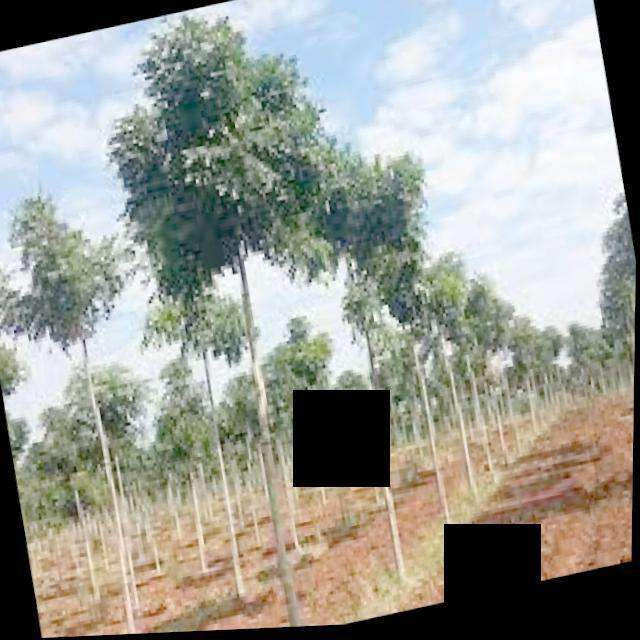tree: (85, 0, 424, 637), (269, 121, 500, 611), (0, 170, 198, 640), (134, 242, 298, 614), (376, 233, 514, 544), (52, 349, 180, 623)
